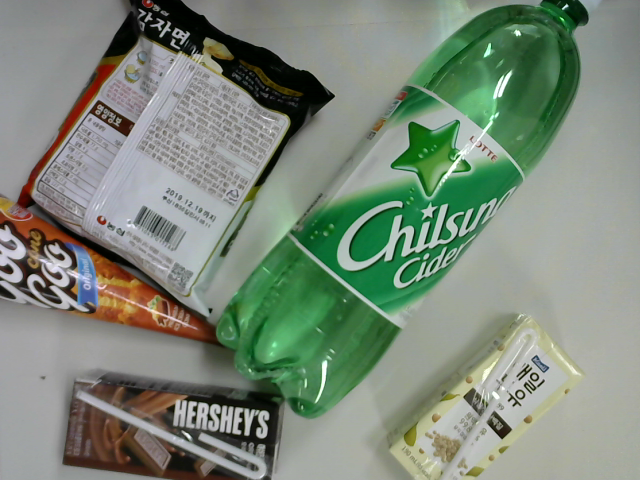99.89_Soymilk: (378, 305, 593, 480)
Chilseong_Cider_1.5L: (212, 1, 607, 427)
GooGoo_Cone_CVS: (1, 187, 248, 365)
Hush_Choco_Drink: (56, 367, 290, 480)
Potato: (15, 1, 339, 326)
